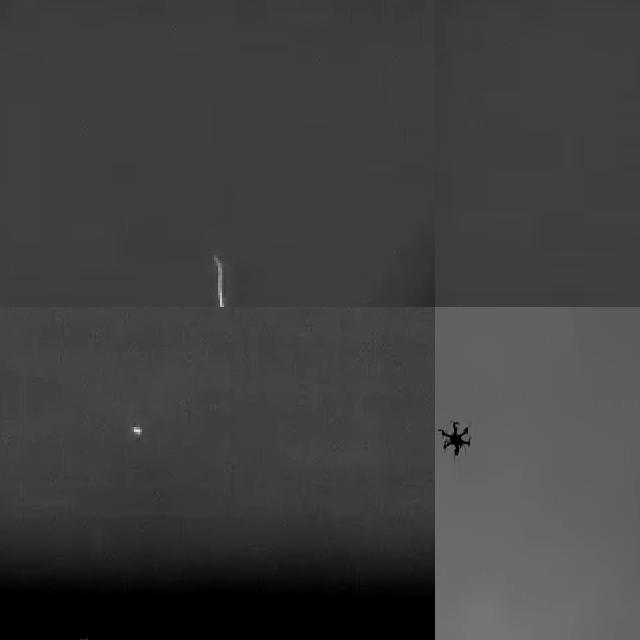1: (121, 420, 147, 446)
drone: (435, 421, 475, 463)
